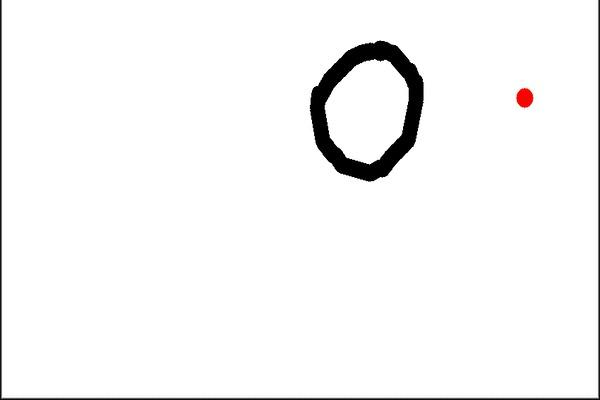O: (291, 28, 429, 183)
